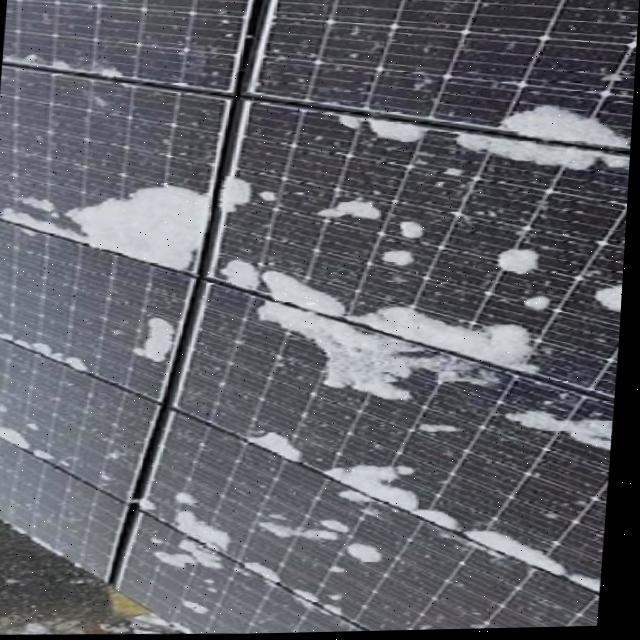Anomaly Solar Panel: (179, 281, 619, 590), (212, 101, 632, 404), (147, 410, 607, 633), (251, 0, 639, 155), (0, 68, 235, 275), (0, 224, 203, 405), (103, 515, 364, 634), (0, 339, 173, 508), (0, 441, 149, 585)
Snow: (234, 295, 505, 437), (1, 137, 218, 285), (347, 298, 550, 380), (471, 525, 608, 599), (454, 137, 632, 181), (325, 448, 437, 515), (163, 487, 240, 576), (0, 320, 97, 382), (492, 109, 632, 151), (257, 269, 354, 328), (1, 49, 128, 93), (508, 407, 618, 455), (0, 423, 86, 473), (331, 115, 430, 151), (193, 5, 237, 85), (155, 535, 228, 581), (257, 519, 358, 549), (418, 497, 472, 548), (248, 424, 311, 466), (294, 583, 356, 622), (131, 316, 173, 366), (314, 198, 387, 226), (340, 539, 393, 575), (494, 247, 547, 281), (220, 256, 268, 293), (98, 441, 132, 493), (247, 554, 292, 591), (420, 418, 465, 444), (593, 289, 626, 323), (178, 596, 218, 621), (225, 179, 251, 215), (527, 294, 557, 318), (258, 185, 284, 211), (386, 252, 417, 271), (398, 222, 425, 242), (0, 389, 16, 419), (27, 420, 46, 432), (146, 499, 162, 512), (0, 508, 10, 525)
